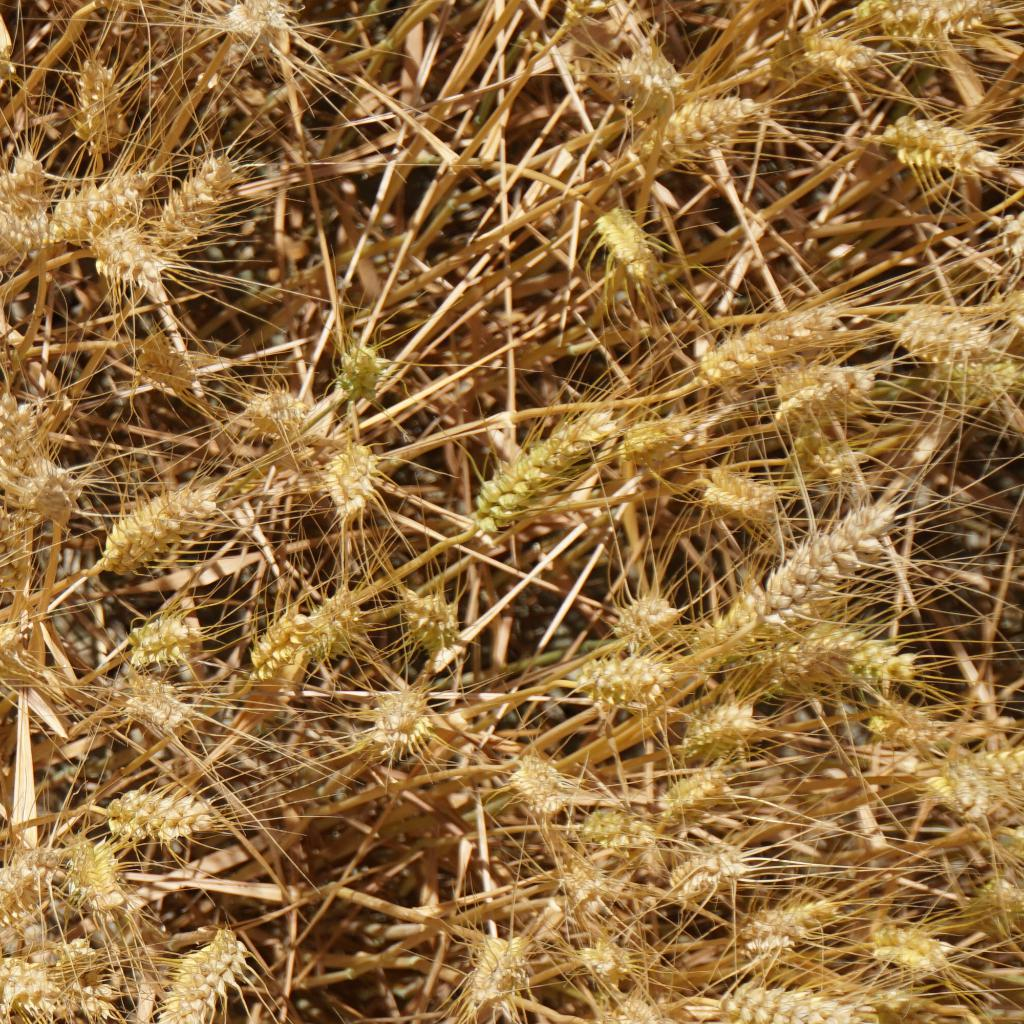0-0: (752, 500, 886, 612), (472, 420, 584, 522), (629, 90, 758, 168), (694, 313, 850, 373), (155, 934, 252, 1024), (775, 628, 919, 687), (104, 492, 205, 570), (886, 113, 992, 182), (157, 154, 238, 239), (95, 787, 204, 845), (459, 935, 530, 1021), (47, 173, 147, 230), (866, 695, 948, 762), (896, 307, 997, 361), (598, 40, 676, 108), (738, 892, 812, 962), (68, 60, 125, 148), (871, 911, 957, 969), (734, 982, 852, 1024), (584, 652, 672, 708), (590, 203, 656, 276), (693, 461, 777, 518), (865, 0, 984, 40), (676, 693, 764, 747), (316, 442, 374, 523), (802, 25, 883, 82), (375, 684, 438, 754), (617, 411, 690, 471), (782, 367, 867, 416), (664, 763, 741, 817), (58, 849, 125, 911), (925, 748, 985, 817), (130, 608, 202, 664), (974, 753, 1021, 835), (675, 844, 739, 904), (514, 752, 571, 819), (935, 356, 1018, 402), (23, 455, 73, 531), (44, 929, 119, 978), (402, 586, 456, 652), (251, 616, 304, 683), (129, 677, 197, 729), (787, 429, 861, 476), (558, 855, 616, 914), (304, 586, 360, 645), (700, 586, 755, 646), (339, 339, 392, 401), (976, 875, 1024, 943), (0, 397, 36, 487), (0, 488, 29, 598), (242, 382, 300, 437), (615, 586, 676, 637), (0, 957, 55, 1013), (143, 339, 201, 391), (0, 147, 43, 217), (876, 989, 961, 1024), (569, 799, 632, 845), (752, 637, 811, 683), (0, 208, 58, 253), (578, 935, 630, 984), (0, 858, 40, 920), (220, 0, 288, 36), (616, 996, 676, 1024), (0, 626, 16, 707)
